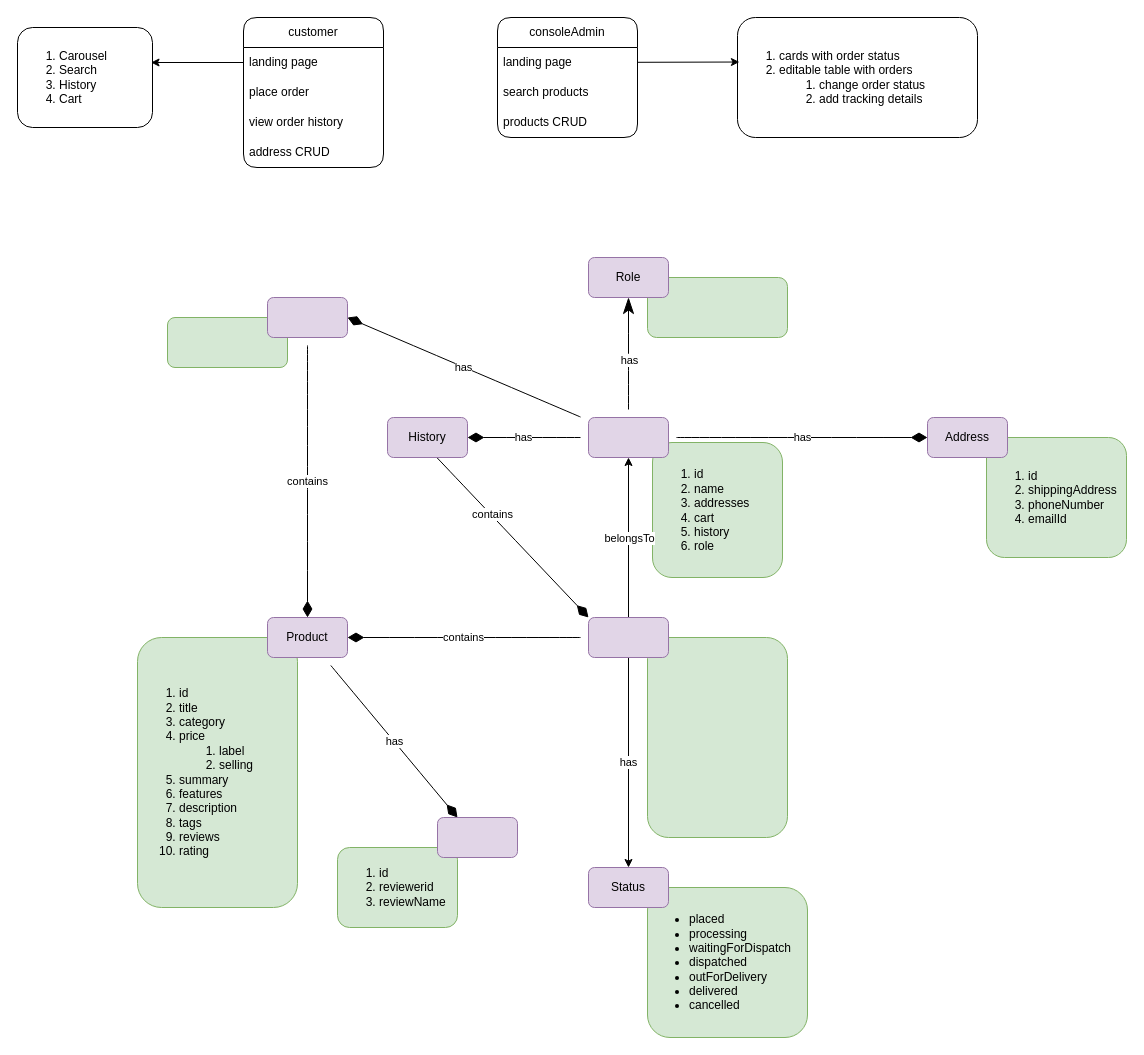
The diagram is 1144 pixels wide and 1055 high, and some of its shapes have lost their labels. Each missing label, with the centre of its shape:
Cart: (307,317)
customer consoleAdmin: (717,307)
Id userId status products userId addressId payment date tracking: (717,737)
Order: (628,637)
productId: (227,342)
Reviews: (477,837)
User: (628,437)
